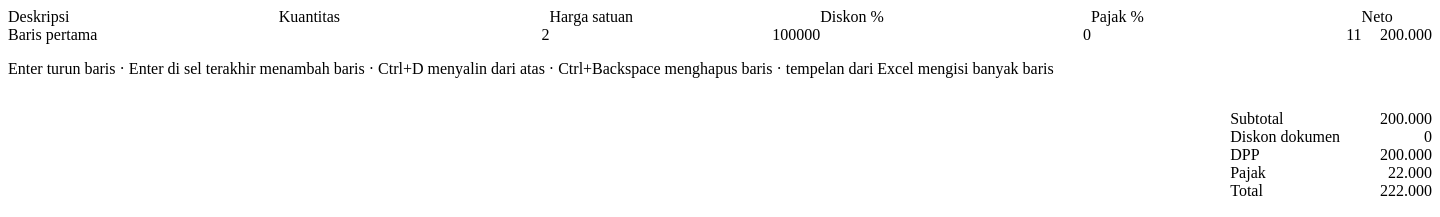
Test: total dihitung ulang seketika dan ditampilkan terformat
Expected: the text "222.000" is shown, [1380,182,1432,200]
Clear the field named "Harga satuan baris 1" at (685, 35), box [549,26,820,44]
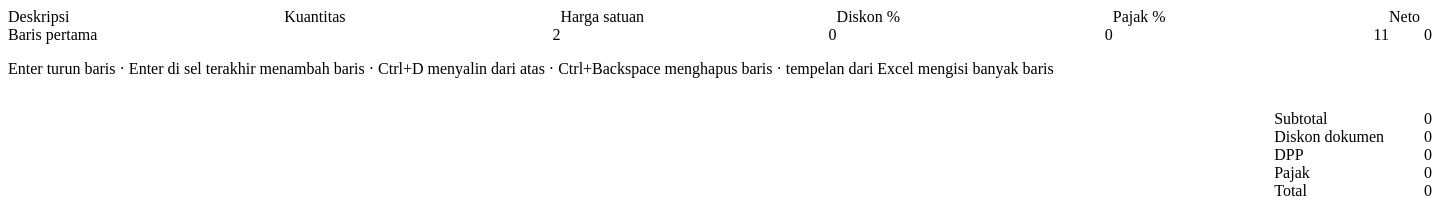
Type "300000" into the field named "Harga satuan baris 1" at (698, 35), box [560,26,837,44]
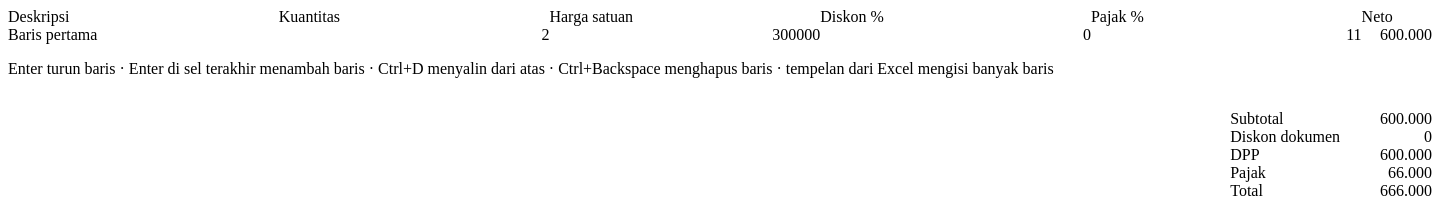
Expected: the text "666.000" is shown, [1380,182,1432,200]
